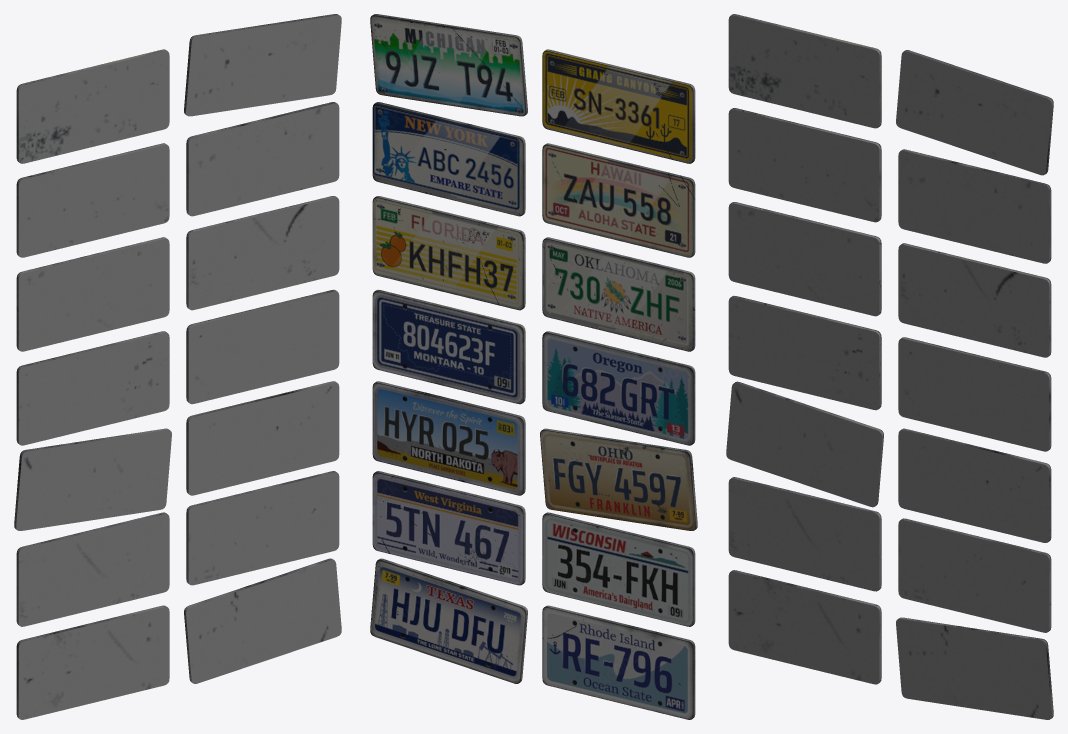
The model's file is Prop_CarPlates_x5.fbx.
3 renders of one model, left to right at view 1: azimuth 30°, elevation 25°; view 2: azimuth 150°, elevation 25°; view 3: azimuth 330°, elevation 25°, orthographic.
Visible parts, largest first — view 1: Prop_CarPlates_x5; view 2: Prop_CarPlates_x5; view 3: Prop_CarPlates_x5.
Part boxes in pixels (bbox=[...]): Prop_CarPlates_x5: bbox=[14, 14, 341, 719]; Prop_CarPlates_x5: bbox=[370, 14, 697, 719]; Prop_CarPlates_x5: bbox=[726, 14, 1053, 719].
Bounding box in the file's own units: 56.71 × 108 × 0.6109.
